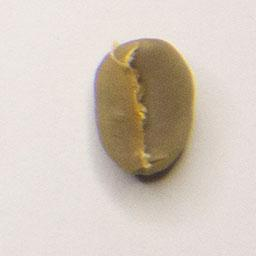premium: (89, 36, 200, 184)
